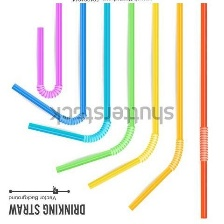drinking_straw: (84, 0, 162, 192), (125, 1, 187, 214), (195, 1, 213, 220), (32, 1, 65, 102)
